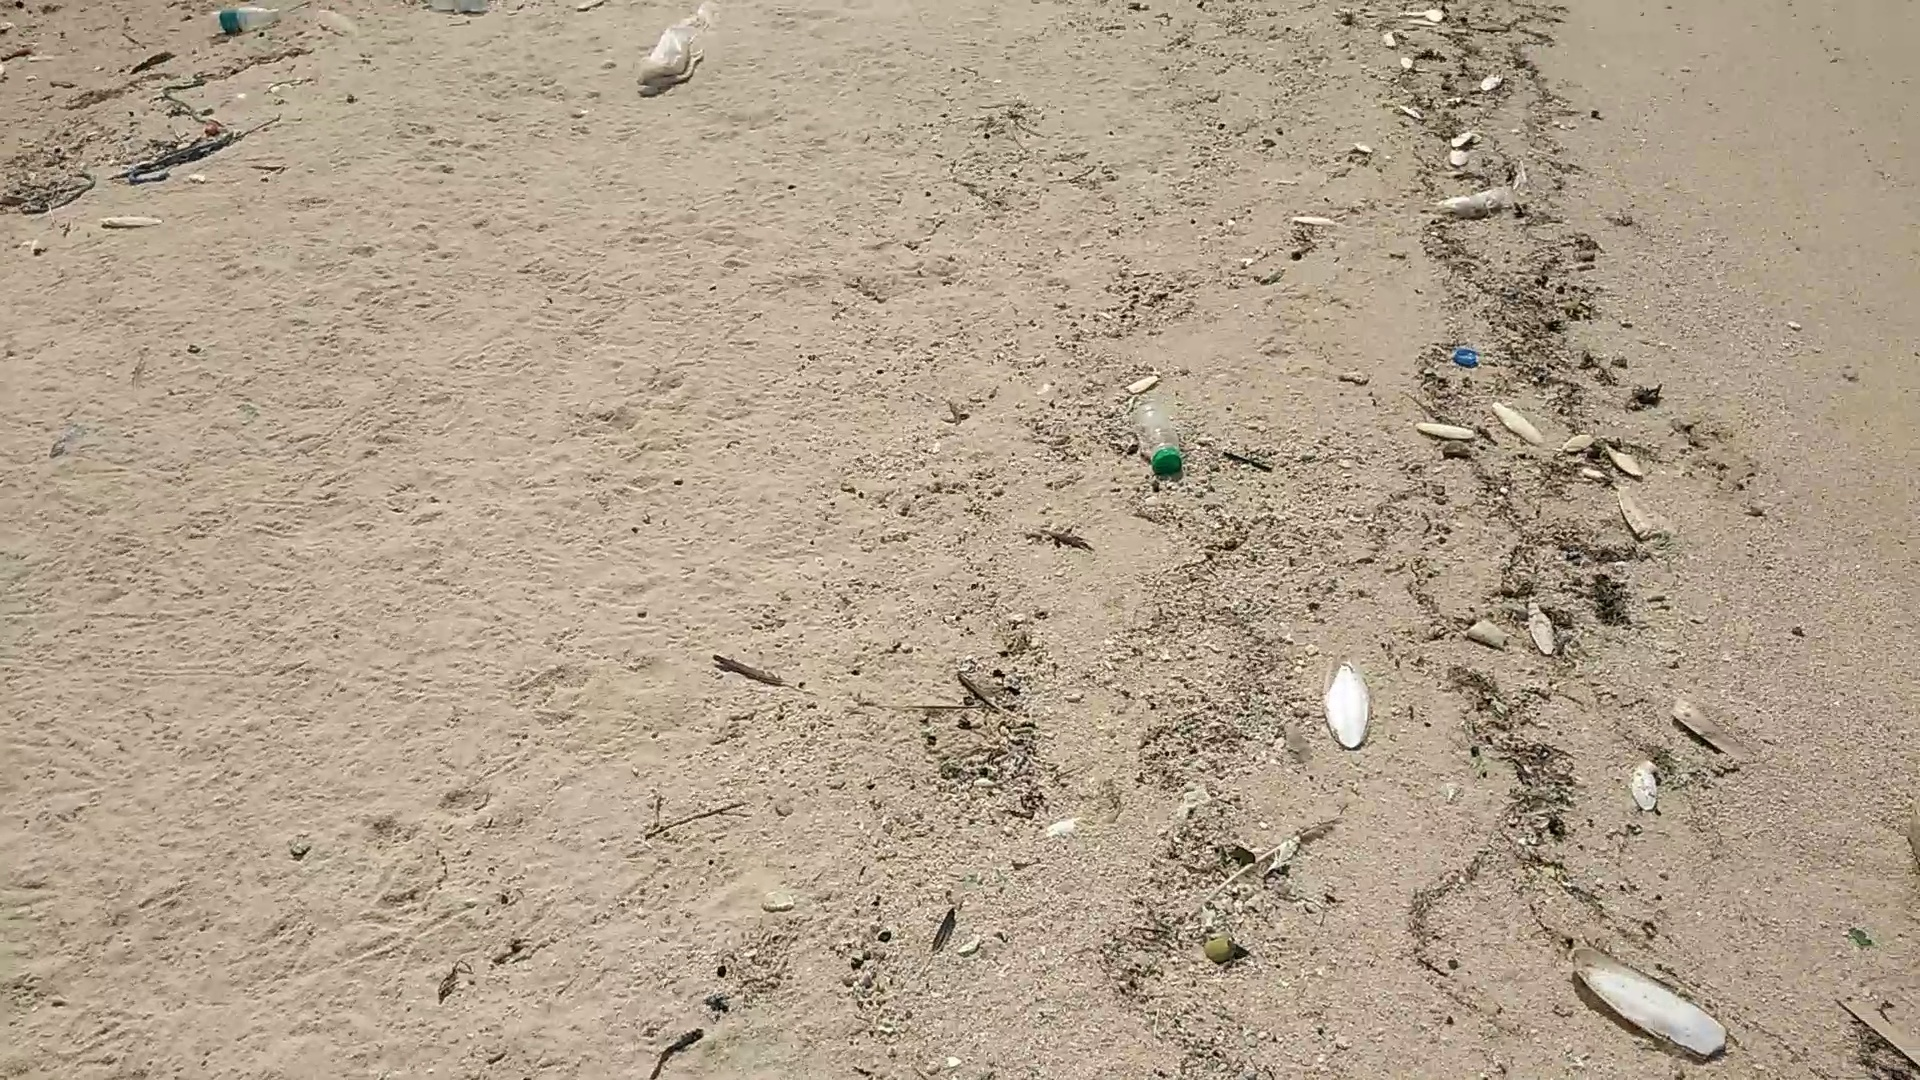plastic: (633, 3, 716, 102), (1129, 401, 1191, 484), (202, 5, 287, 40), (1433, 185, 1513, 220)
